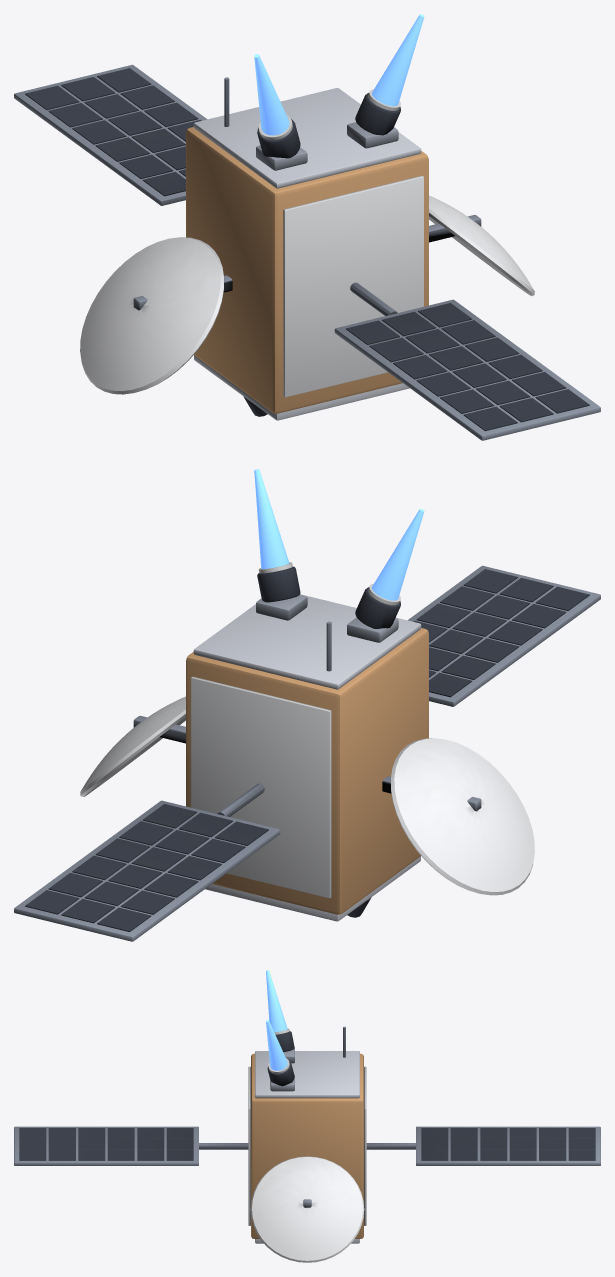
File: telecom-satellite.envelope.glb
3 renders of one model, top to bottom at view 1: azimuth 30°, elevation 25°; view 2: azimuth 150°, elevation 25°; view 3: azimuth 270°, elevation 25°, orthographic. The views are drawn at different scales.
Visible parts, largest first — view 1: telecom-satellite.white, telecom-satellite.graphite, telecom-satellite.warm, telecom-satellite.metal, telecom-satellite.light, telecom-satellite.emissive, telecom-satellite.mid; view 2: telecom-satellite.white, telecom-satellite.graphite, telecom-satellite.warm, telecom-satellite.light, telecom-satellite.metal, telecom-satellite.emissive, telecom-satellite.mid; view 3: telecom-satellite.graphite, telecom-satellite.white, telecom-satellite.warm, telecom-satellite.metal, telecom-satellite.light, telecom-satellite.emissive.
Boxes of the visible parts, x1,y1,x2,y2 form: telecom-satellite.white: (80,89,534,397); telecom-satellite.graphite: (25,68,589,431); telecom-satellite.warm: (186,127,428,413); telecom-satellite.metal: (14,64,600,440); telecom-satellite.light: (193,88,421,420); telecom-satellite.emissive: (254,14,424,135); telecom-satellite.mid: (256,122,398,170); telecom-satellite.white: (80,562,534,898); telecom-satellite.graphite: (25,566,589,931); telecom-satellite.warm: (186,628,428,914); telecom-satellite.light: (193,594,421,921); telecom-satellite.metal: (14,565,600,941); telecom-satellite.emissive: (254,469,424,600); telecom-satellite.mid: (256,594,398,642); telecom-satellite.graphite: (19,1031,595,1160); telecom-satellite.white: (248,1028,366,1262); telecom-satellite.warm: (251,1053,363,1238); telecom-satellite.metal: (14,1026,600,1207); telecom-satellite.light: (255,1051,359,1243); telecom-satellite.emissive: (266,970,287,1070).
Size of the model in its own units: 1.49 by 1.31 by 2.85.
